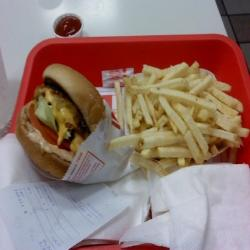burger: (14, 65, 119, 182)
fries: (122, 69, 240, 164)
